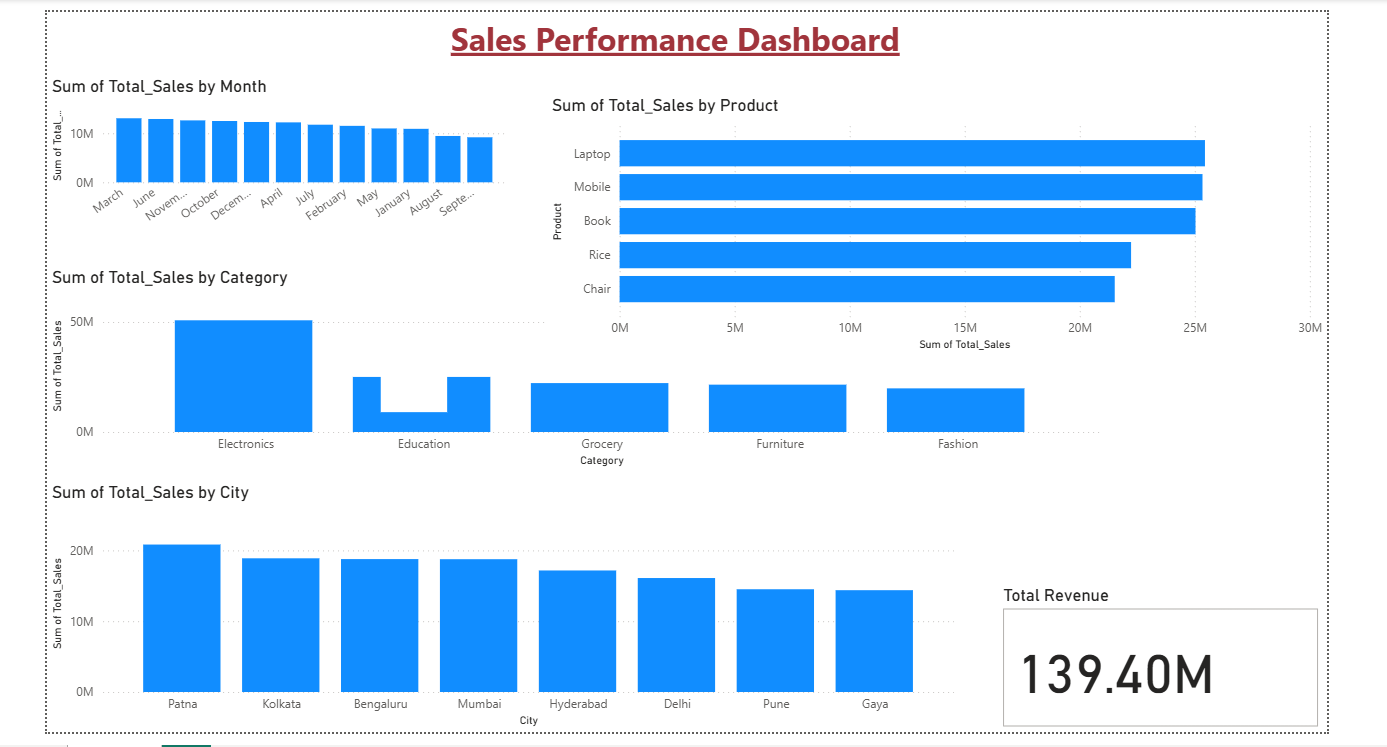

This screenshot's page, from the dashboard's own definition file:
{"tool":"powerbi","page":{"name":"Page 1","canvas":[1280,720],"ordinal":0},"visuals":[{"type":"clusteredColumnChart","fields":{"Y":["Sum(TASK 2.Total_Sales)"],"Category":["TASK 2.Category"]},"box":[0,255,1058.8,205],"z":0},{"type":"clusteredColumnChart","fields":{"Category":["TASK 2.City"],"Y":["Sum(TASK 2.Total_Sales)"]},"box":[0,470,912.5,250],"z":1000},{"type":"clusteredColumnChart","fields":{"Category":["TASK 2.Month"],"Y":["Sum(TASK 2.Total_Sales)"]},"box":[0,63.8,463.8,158.8],"z":2000},{"type":"cardVisual","title":"Total Revenue","fields":{"Data":["Sum(TASK 2.Total_Sales)"]},"box":[951.2,572.5,325,147.5],"z":3000},{"type":"clusteredBarChart","fields":{"Category":["TASK 2.Product"],"Y":["Sum(TASK 2.Total_Sales)"]},"box":[500,82.5,780,261.2],"z":4000},{"type":"textbox","box":[333.3,333.3,66.7,66.7],"z":4001},{"type":"textbox","box":[318.8,0,795,55],"z":4002}]}

Visuals, with their boxes on the page's 1280x720 design canvas (x1, y1, x2, y2). These are canvas units, not pixel positions in the 1387x747 screenshot, which may show the page scaled, cropped or inside an application window:
clusteredColumnChart - Sum(TASK 2.Total_Sales) x TASK 2.Category: l=0, t=255, r=1059, b=460
clusteredColumnChart - TASK 2.City x Sum(TASK 2.Total_Sales): l=0, t=470, r=912, b=720
clusteredColumnChart - TASK 2.Month x Sum(TASK 2.Total_Sales): l=0, t=64, r=464, b=223
"Total Revenue" cardVisual: l=951, t=572, r=1276, b=720
clusteredBarChart - TASK 2.Product x Sum(TASK 2.Total_Sales): l=500, t=82, r=1280, b=344
textbox: l=333, t=333, r=400, b=400
textbox: l=319, t=0, r=1114, b=55
